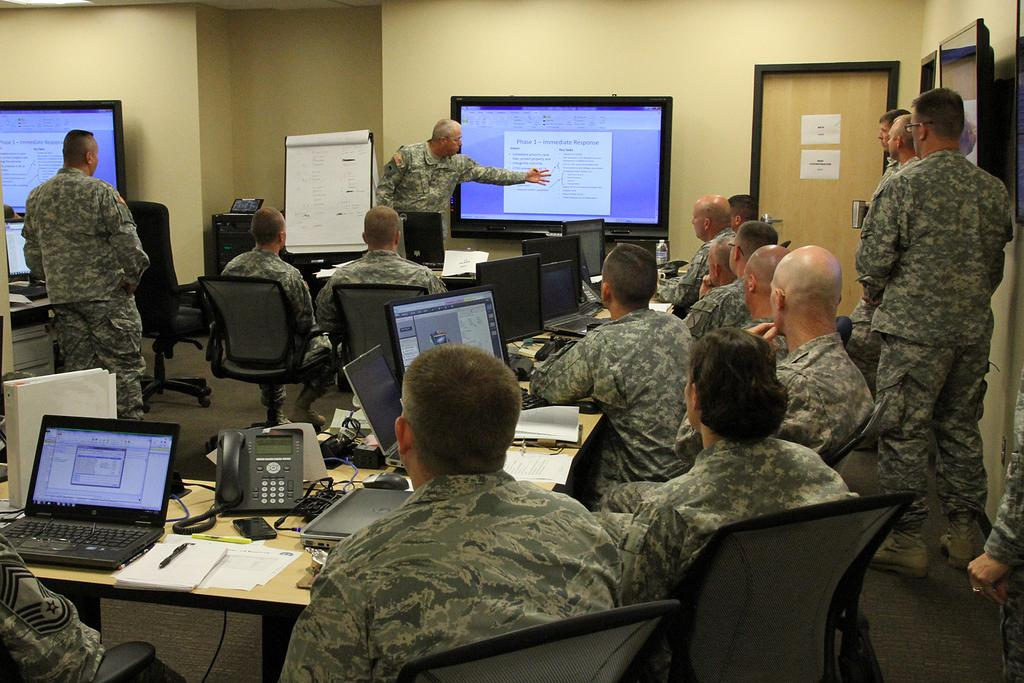Laptop: (18, 403, 178, 580), (343, 345, 406, 469), (297, 490, 415, 550), (541, 260, 608, 340)
